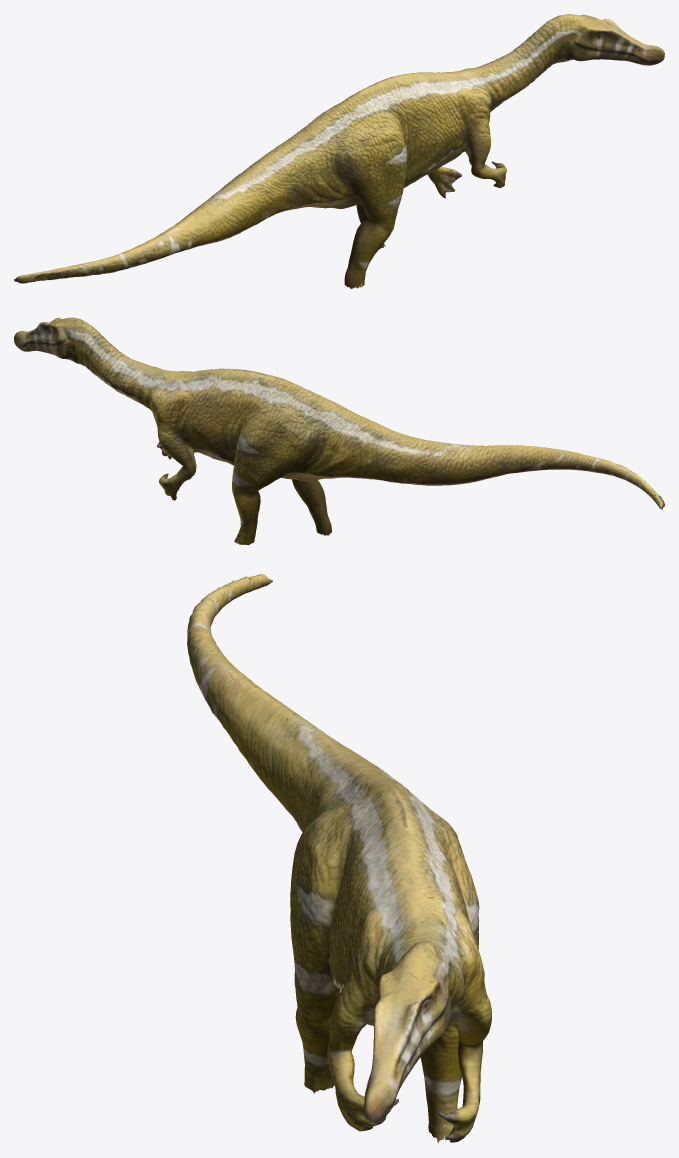
File: baryonyx.glb
3 views of the same model, one above another, from view 1: azimuth 30°, elevation 25°; view 2: azimuth 150°, elevation 25°; view 3: azimuth 270°, elevation 25° (orthographic). The views are drawn at different scales.
Parts seen in each view (by area): view 1: normalize; view 2: normalize; view 3: normalize.
Part boxes in pixels (x1=…): normalize: x1=14, y1=14, x2=664, y2=288; normalize: x1=14, y1=317, x2=664, y2=544; normalize: x1=187, y1=574, x2=491, y2=1143.
Bounding box in the file's own units: 7.86 × 2.14 × 1.67.
Materials: 1 (1 with a texture image).
